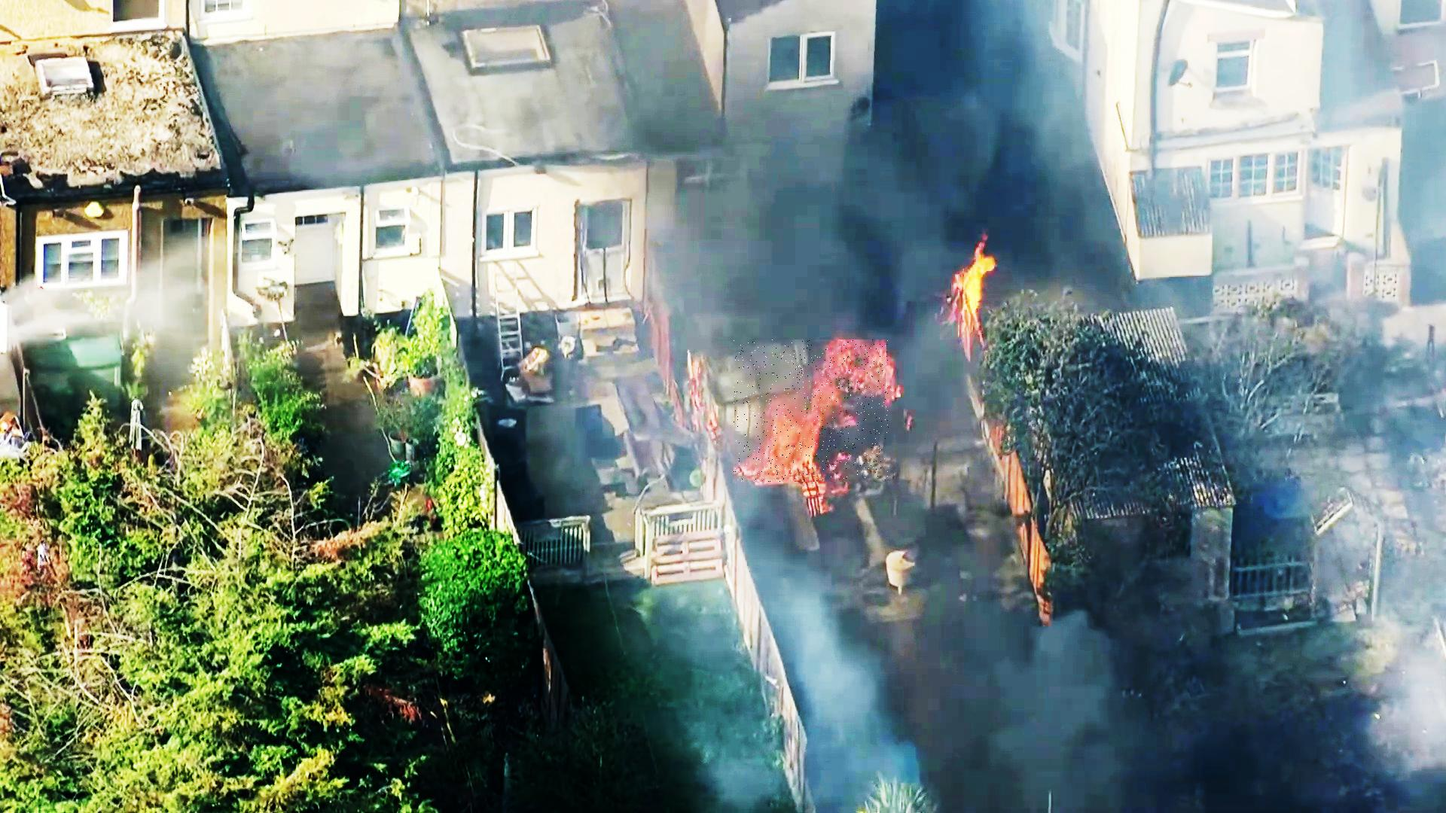fire: (734, 340, 889, 482)
